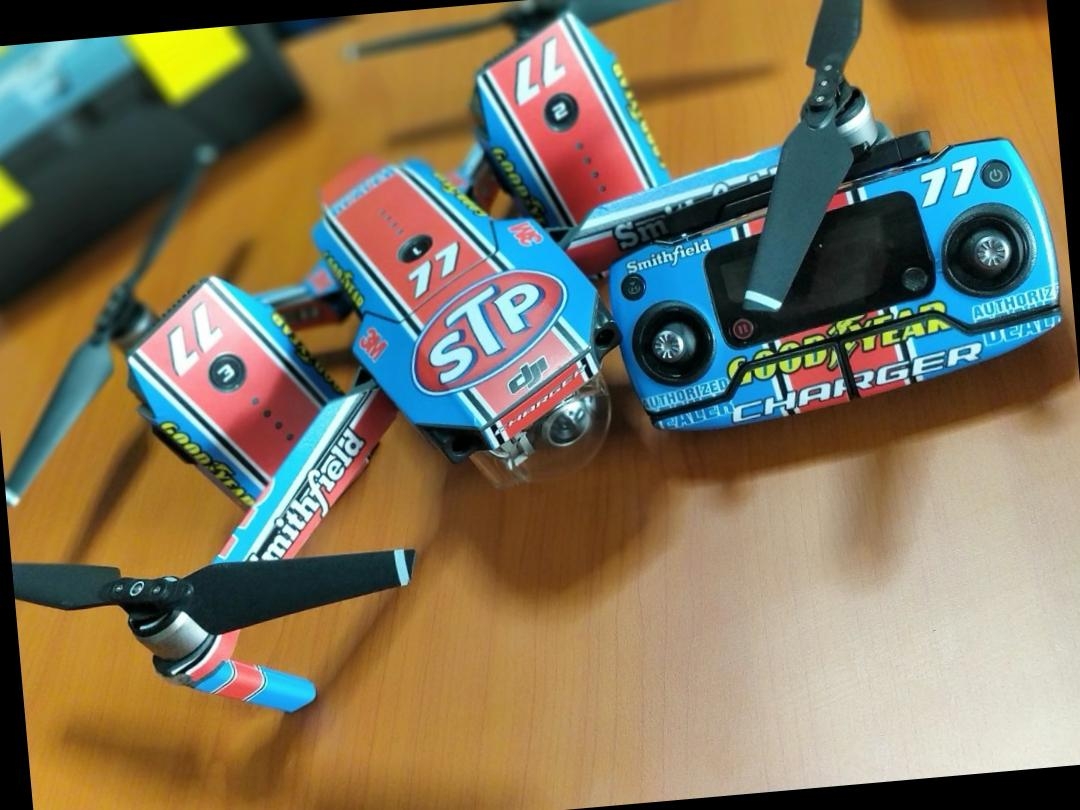drone: (0, 0, 969, 719)
